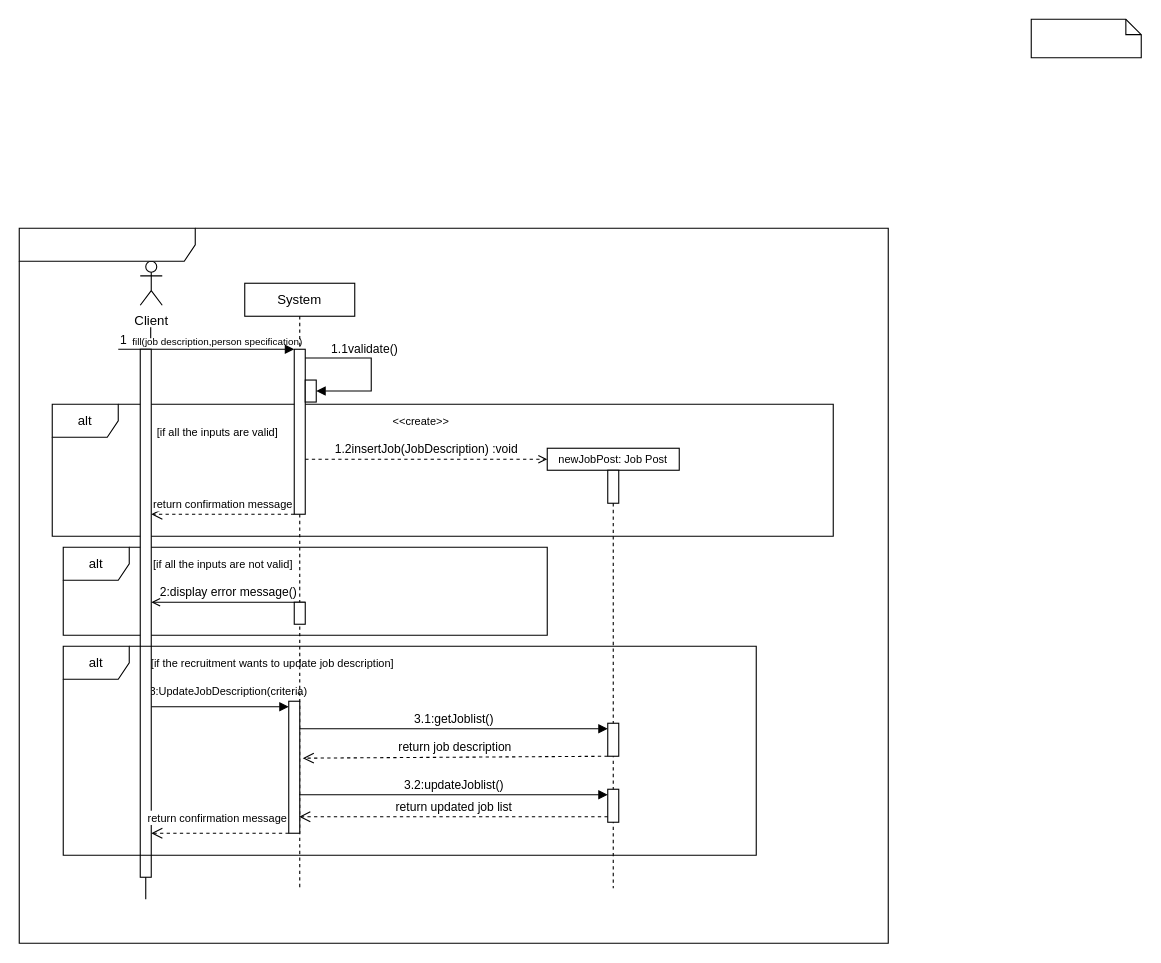
Some shapes in this 1161 by 963 pixel diagram are drawn without their labels. The centre of each missing label's shape, as x and y in pixels:
Note: the point at 1085,38
Sequence Diagram for job description: the point at 453,585
